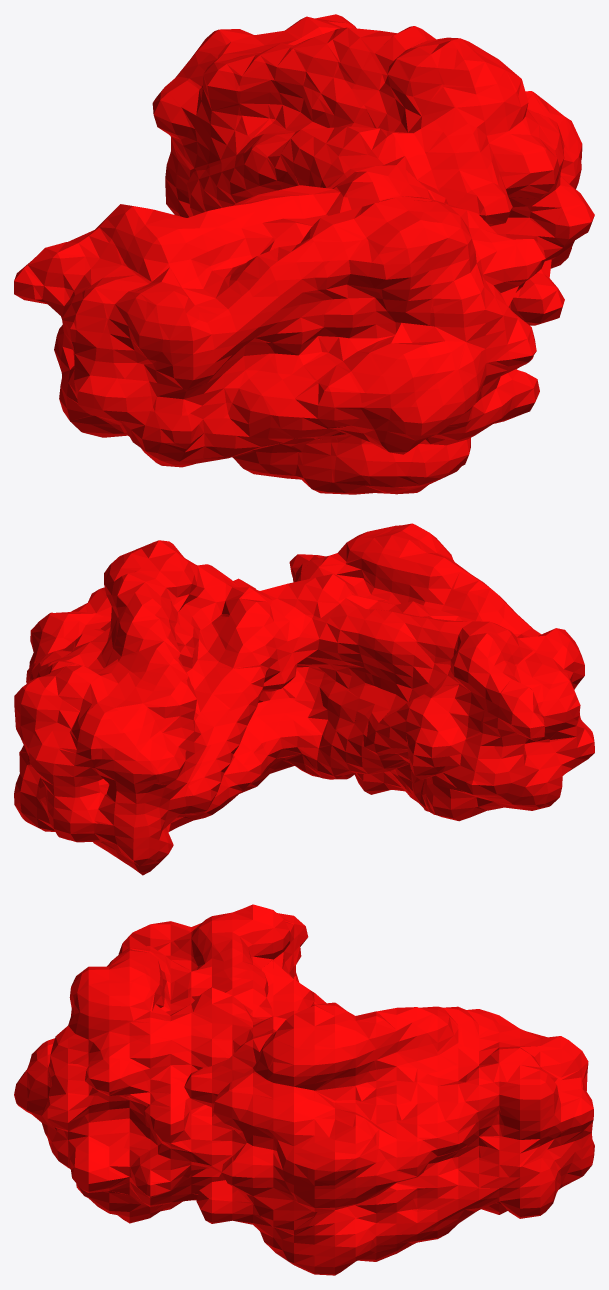
File: exbB_coarse.dae
3 renders of one model, top to bottom at view 1: azimuth 30°, elevation 25°; view 2: azimuth 150°, elevation 25°; view 3: azimuth 270°, elevation 25°, orthographic. The views are drawn at different scales.
Parts seen in each view (by area): view 1: exbB; view 2: exbB; view 3: exbB.
Part boxes in pixels (x1=…): exbB: x1=14, y1=14, x2=594, y2=494; exbB: x1=14, y1=523, x2=594, y2=875; exbB: x1=14, y1=904, x2=594, y2=1275.
Size of the model in its own units: 152 by 83.22 by 158.
